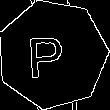P_N: (33, 28, 73, 80)
